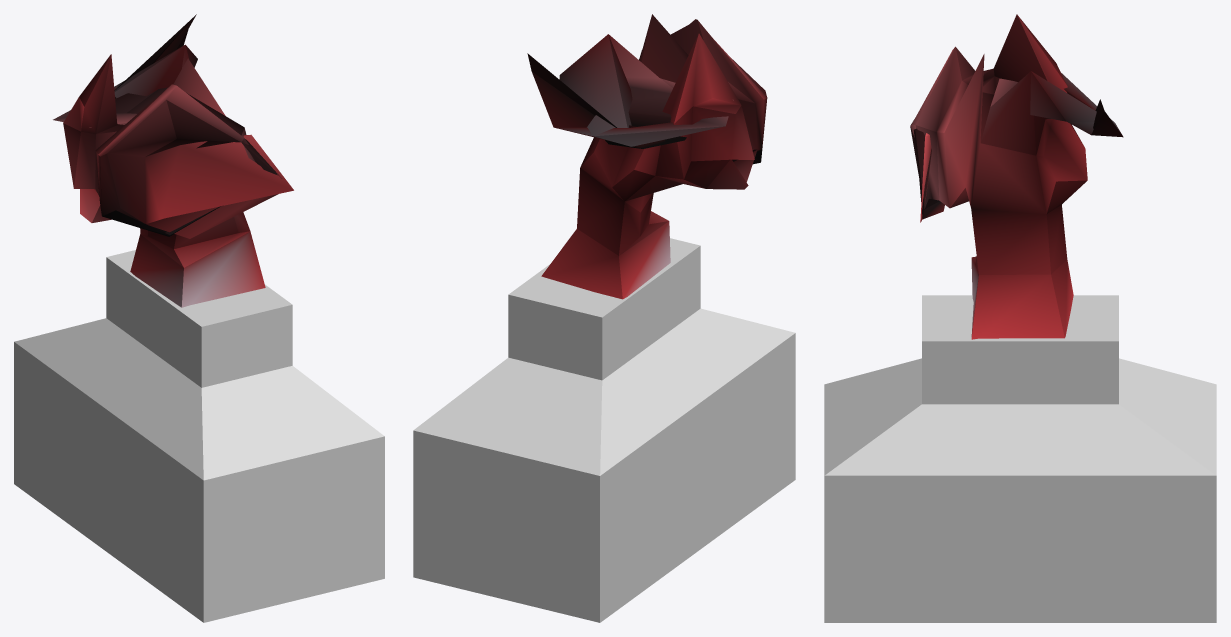
File: ped.fbx
3 views of the same model, side by side, from view 1: azimuth 30°, elevation 25°; view 2: azimuth 150°, elevation 25°; view 3: azimuth 270°, elevation 25° (orthographic). The views are drawn at different scales.
Parts seen in each view (by area): view 1: Cube, Cube.001; view 2: Cube, Cube.001; view 3: Cube, Cube.001.
Part boxes in pixels (x1,y1,x2,y2): Cube: (14,250,384,622); Cube.001: (53,14,293,307); Cube: (413,238,795,622); Cube.001: (527,14,767,299); Cube: (824,295,1216,622); Cube.001: (910,14,1123,339).
Bounding box in the file's own units: 250 × 529 × 363.
